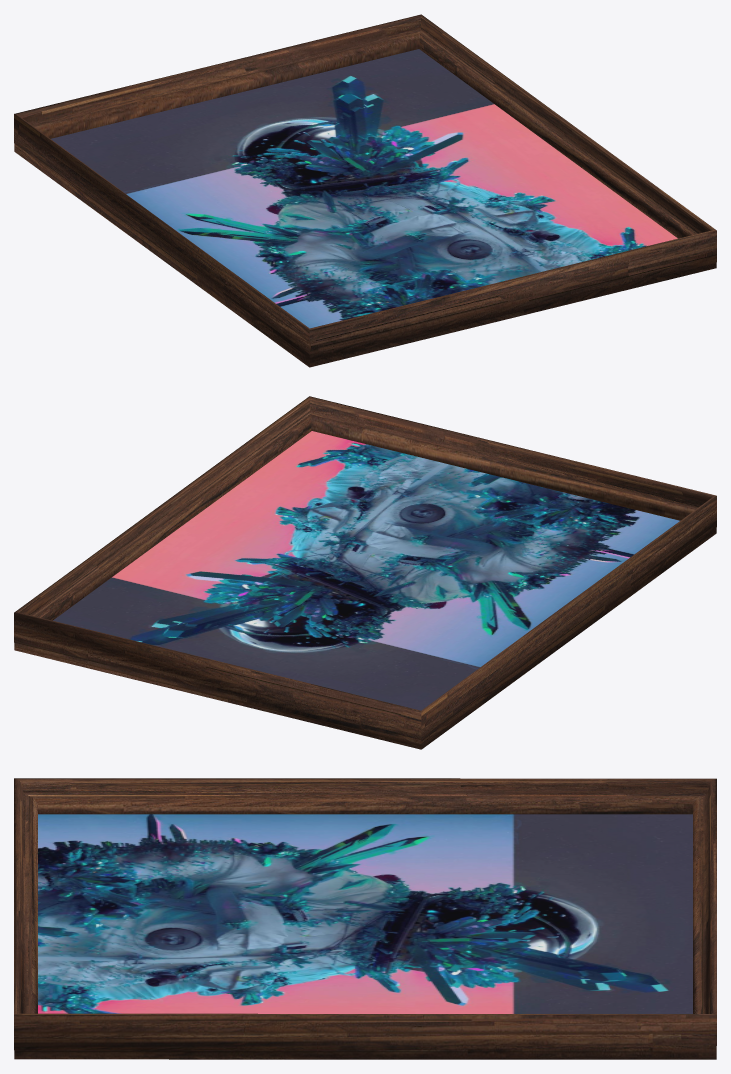
The model's file is beeple.glb.
3 views of the same model, one above another, from view 1: azimuth 30°, elevation 25°; view 2: azimuth 150°, elevation 25°; view 3: azimuth 270°, elevation 25° (orthographic). The views are drawn at different scales.
Parts seen in each view (by area): view 1: beeple, BezierCircle; view 2: beeple, BezierCircle; view 3: beeple, BezierCircle.
Boxes of the visible parts, box(x1,y1,x2,y2) form: beeple: box(51, 49, 677, 328); BezierCircle: box(14, 14, 716, 367); beeple: box(53, 431, 679, 710); BezierCircle: box(14, 396, 716, 749); beeple: box(38, 814, 692, 1013); BezierCircle: box(14, 778, 716, 1059).
Size of the model in its own units: 0.8519 by 0.0757 by 1.07.
Materials: 2 (2 with a texture image).
